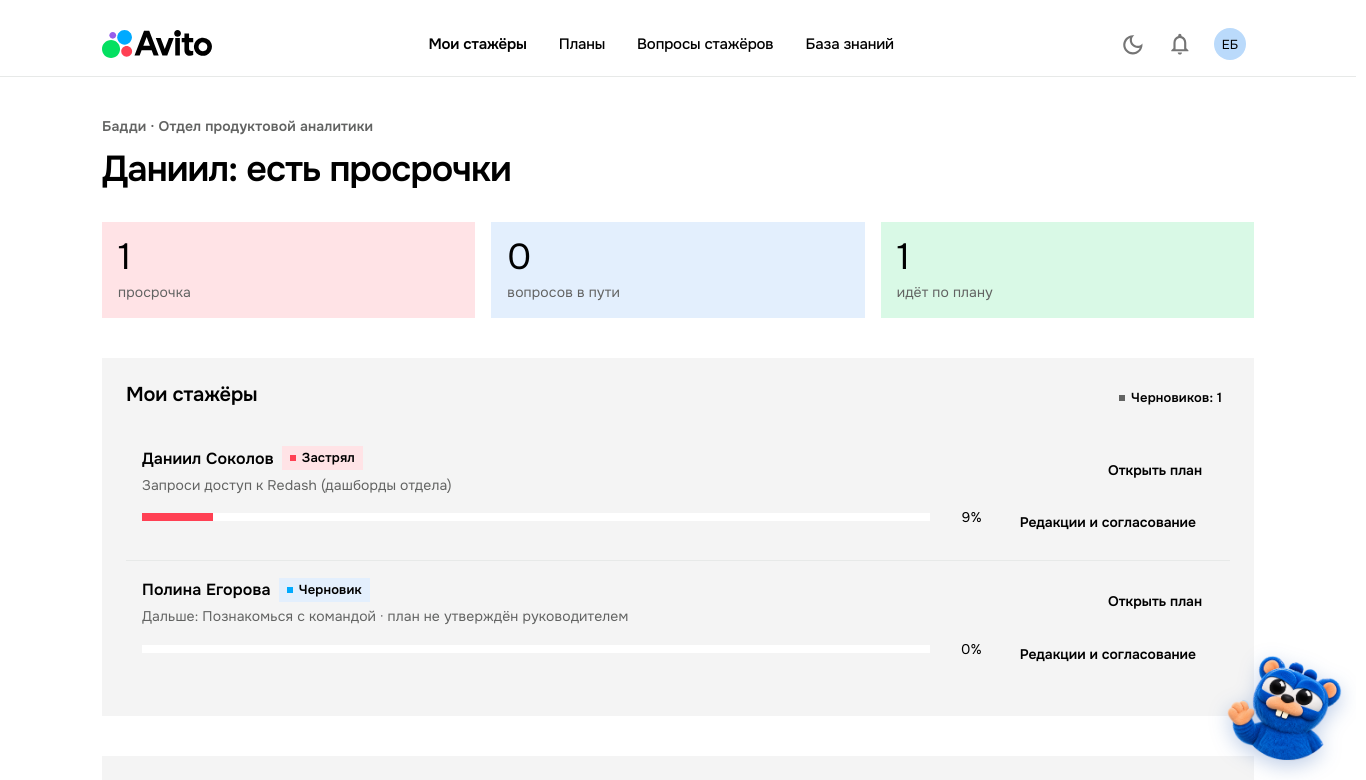
BR-34: уведомление новому владельцу базы › прочитанное на сервере назначение не появляется заново
Expected: the heading "Даниил: есть просрочки" is shown, [102,149,511,190]
Click the button named "Уведомления:" at (1180,44), box [1158,22,1202,66]
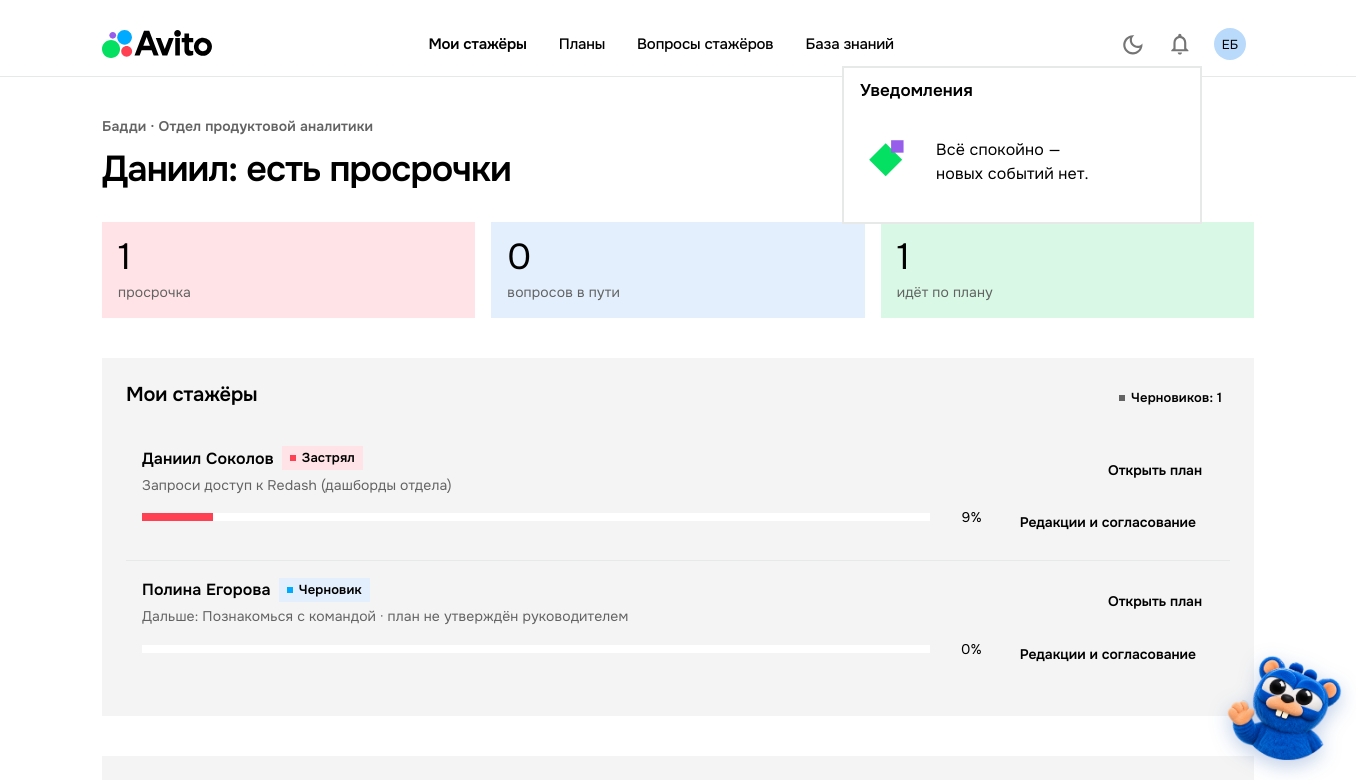
Result: the text "Всё спокойно — новых событий нет." is shown at [936,139,1089,184]
